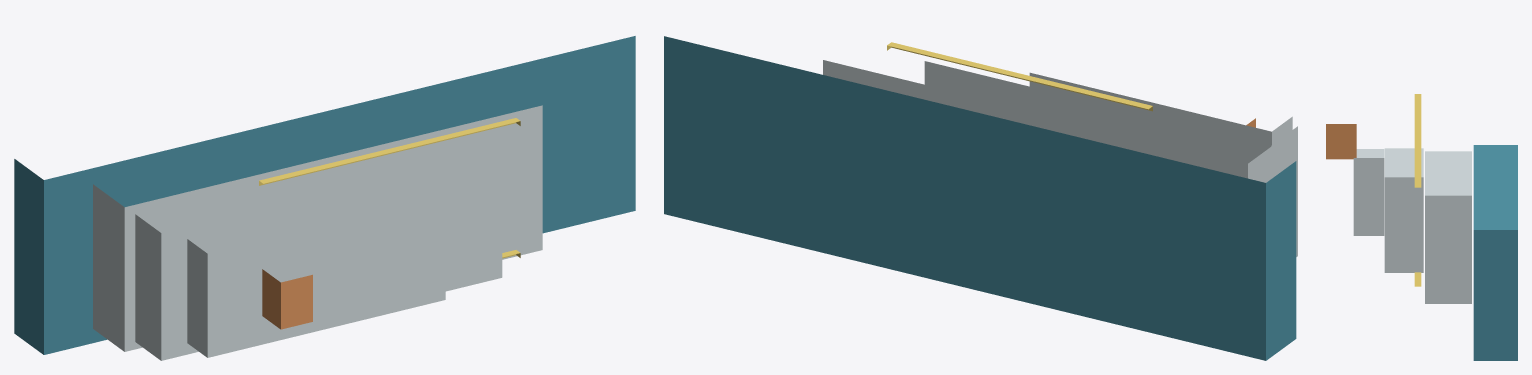
File: passenger-vessel.glb
The picture shows the model from 3 angles, left to right: view 1: azimuth 30°, elevation 25°; view 2: azimuth 150°, elevation 25°; view 3: azimuth 270°, elevation 25°; orthographic projection. The views are drawn at different scales.
Bounding box in the file's own units: 9.2 × 2.6 × 3.45.
